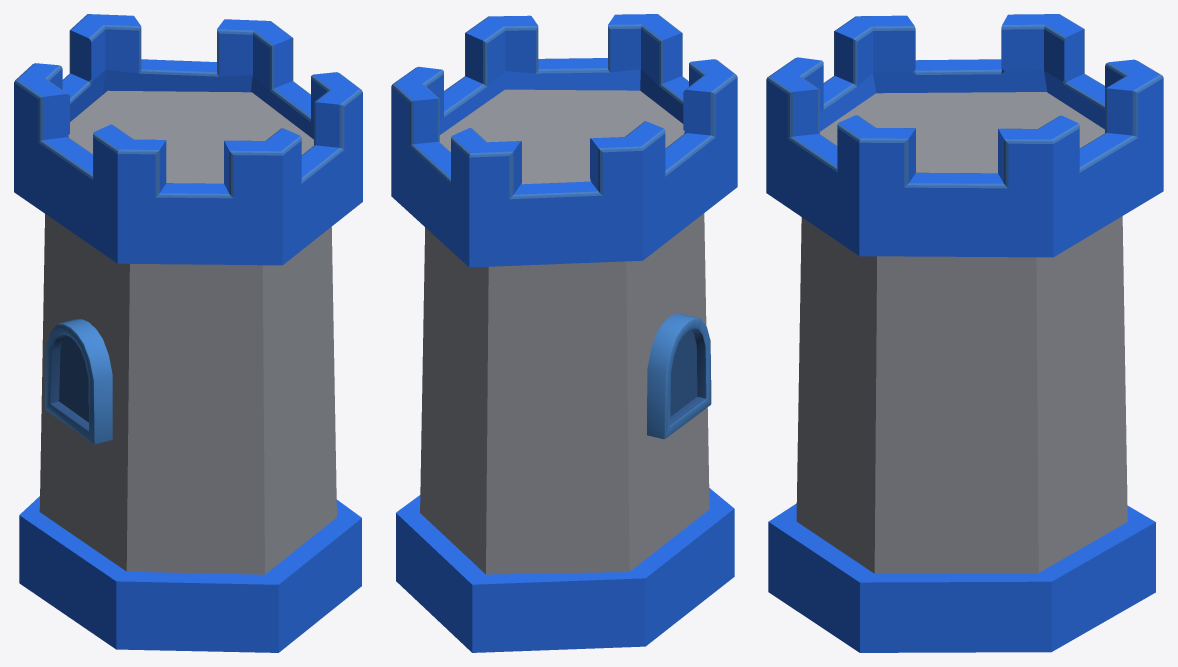
Rendered from tazesi.fbx.
The picture shows the model from 3 angles, left to right: view 1: azimuth 30°, elevation 25°; view 2: azimuth 150°, elevation 25°; view 3: azimuth 270°, elevation 25°; orthographic projection. The views are drawn at different scales.
Visible parts, largest first — view 1: Circle.001; view 2: Circle.001; view 3: Circle.001.
Part boxes in pixels (box(x1,y1,x2,y2)): Circle.001: box(14, 14, 362, 652); Circle.001: box(391, 14, 737, 652); Circle.001: box(766, 14, 1163, 652).
Bounding box in the file's own units: 3.18 × 5.99 × 4.16.
